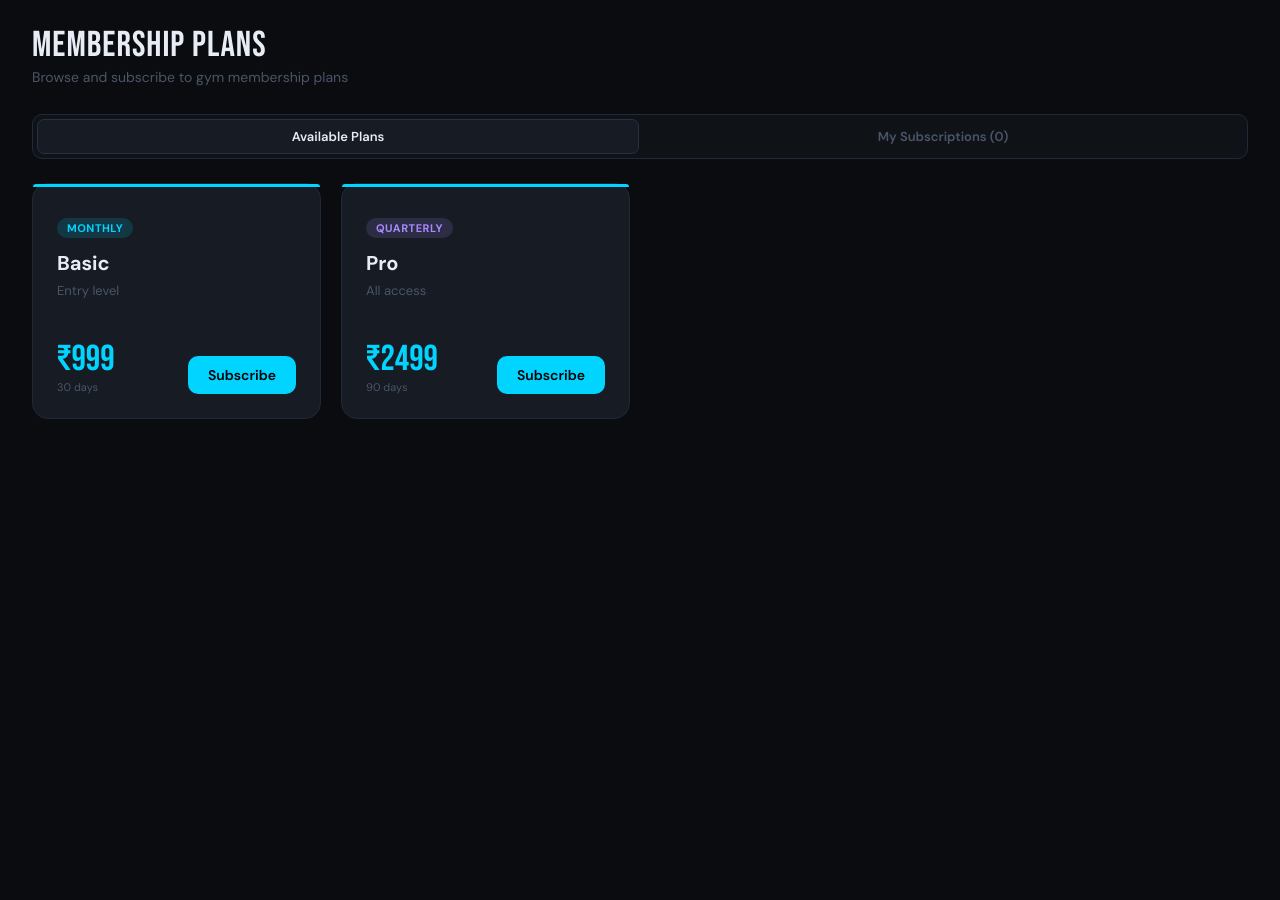
Test: MemberPlans — payment modal › opens payment modal showing plan price
Click the button "Subscribe" next to "999".
click(242, 375)  # box [188,356,296,394]
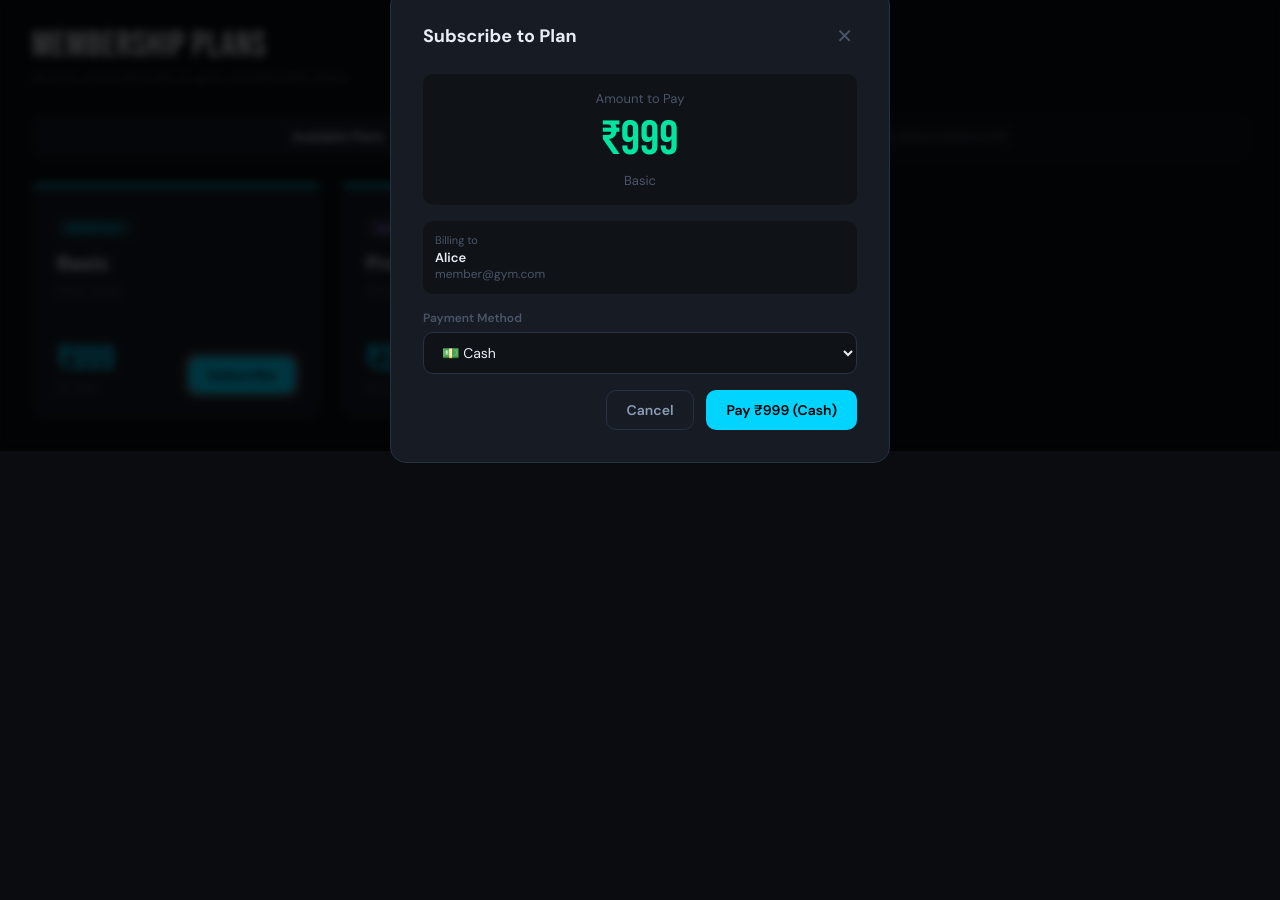
Expected: the text "₹999" below "Entry level" is shown, [57,342,115,378]
Now the text "Subscribe to Plan" is shown, box [423,24,577,48]
